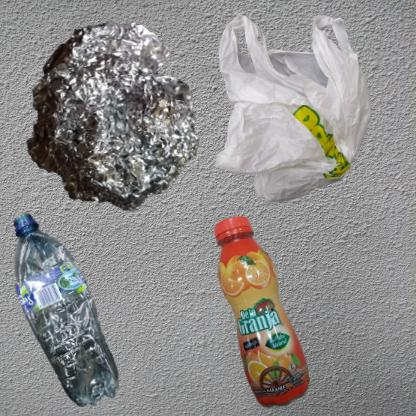aluminio: (10, 10, 211, 229)
bolsa: (213, 10, 375, 209)
botella: (10, 213, 123, 409), (213, 213, 314, 416)
